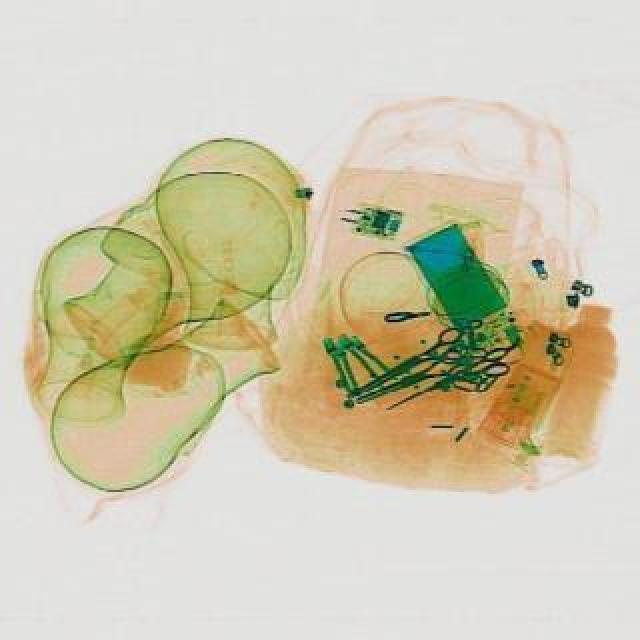pliers: (340, 328, 478, 408), (384, 348, 518, 420)
